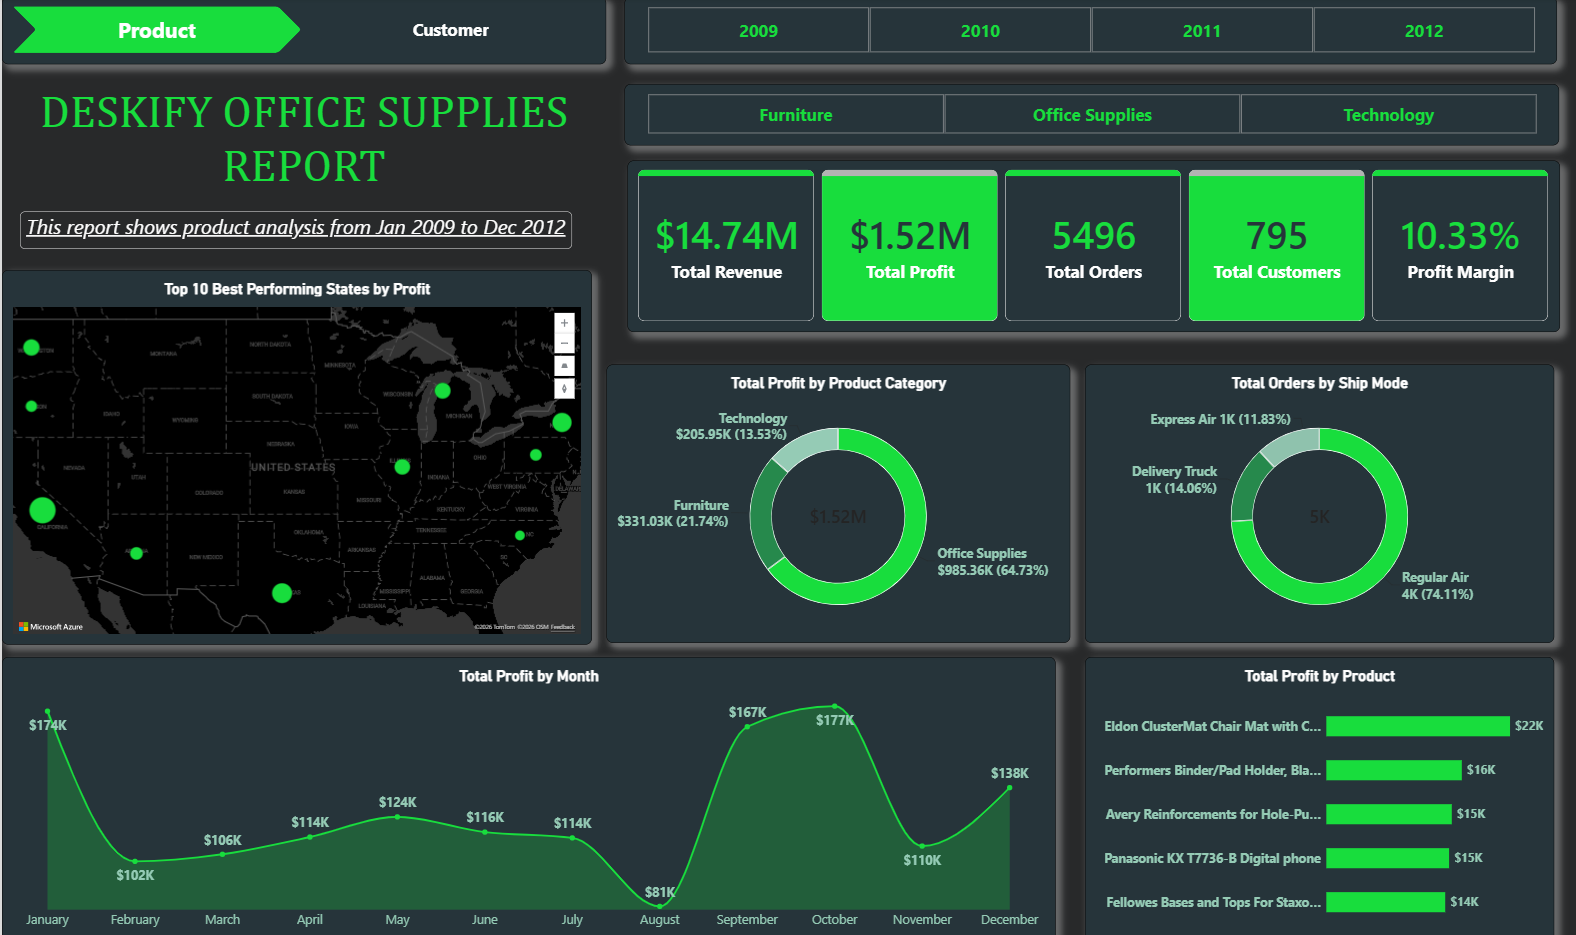

The page's visual inventory and layout, read from the dashboard file:
{"tool":"powerbi","page":{"name":"Product","canvas":[2500,1500],"ordinal":0},"visuals":[{"type":"cardVisual","fields":{"Data":["Calculated Measures.Total Revenue","Calculated Measures.Total Profit","Calculated Measures.Total Orders","Calculated Measures.Total Customers","Calculated Measures.Profit Margin"]},"box":[990.7,260.3,1478.7,272.1],"z":0},{"type":"azureMap","title":"Top 10 Best Performing States by Profit","fields":{"Category":["Location Dim.State"],"Size":["Calculated Measures.Total Profit"]},"box":[0,432.4,935.3,594.1],"z":1},{"type":"donutChart","fields":{"Category":["Product Dim.Product Category"],"Y":["Calculated Measures.Total Profit"]},"box":[958.8,582.4,735.3,441.2],"z":2},{"type":"donutChart","fields":{"Category":["Order Dim.Ship Mode"],"Y":["Calculated Measures.Total Orders"]},"box":[1717.6,582.4,744.1,441.2],"z":3},{"type":"clusteredBarChart","title":"Total Profit by Product","fields":{"Category":["Product Dim.Product Name"],"Y":["Calculated Measures.Total Profit"]},"box":[1717.6,1047.1,744.1,452.9],"z":4},{"type":"areaChart","title":"Total Profit by Month","fields":{"Category":["Calendar Dim.Month Name"],"Y":["Calculated Measures.Total Profit"]},"box":[0,1047.1,1670.6,452.9],"z":5},{"type":"slicer","fields":{"Values":["Calendar Dim.Year"]},"box":[987.8,0,1478.7,106.5],"z":6},{"type":"slicer","fields":{"Values":["Product Dim.Product Category"]},"box":[987.8,139,1481.7,97.6],"z":7},{"type":"pageNavigator","box":[0,0,958.2,106.5],"z":8},{"type":"textbox","box":[0,139,958.2,174.5],"z":9},{"type":"textbox","box":[29.6,340.1,875.4,59.1],"z":10}]}

Visuals, with their boxes in screenshot pixels (x1, y1, x2, y2), scaled from the page's 2500x1500 canvas onto the 1576x935 screenshot:
cardVisual - Calculated Measures.Total Revenue x Calculated Measures.Total Profit: rect(625, 162, 1557, 332)
"Top 10 Best Performing States by Profit" azureMap: rect(0, 270, 590, 640)
donutChart - Product Dim.Product Category x Calculated Measures.Total Profit: rect(604, 363, 1068, 638)
donutChart - Order Dim.Ship Mode x Calculated Measures.Total Orders: rect(1083, 363, 1552, 638)
"Total Profit by Product" clusteredBarChart: rect(1083, 653, 1552, 934)
"Total Profit by Month" areaChart: rect(0, 653, 1053, 934)
slicer - Calendar Dim.Year: rect(623, 0, 1555, 66)
slicer - Product Dim.Product Category: rect(623, 87, 1557, 147)
pageNavigator: rect(0, 0, 604, 66)
textbox: rect(0, 87, 604, 195)
textbox: rect(19, 212, 571, 249)
